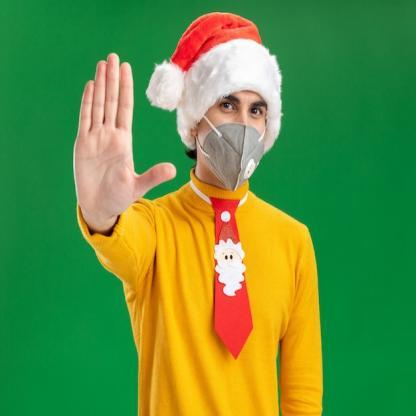stop: (70, 47, 177, 231)
